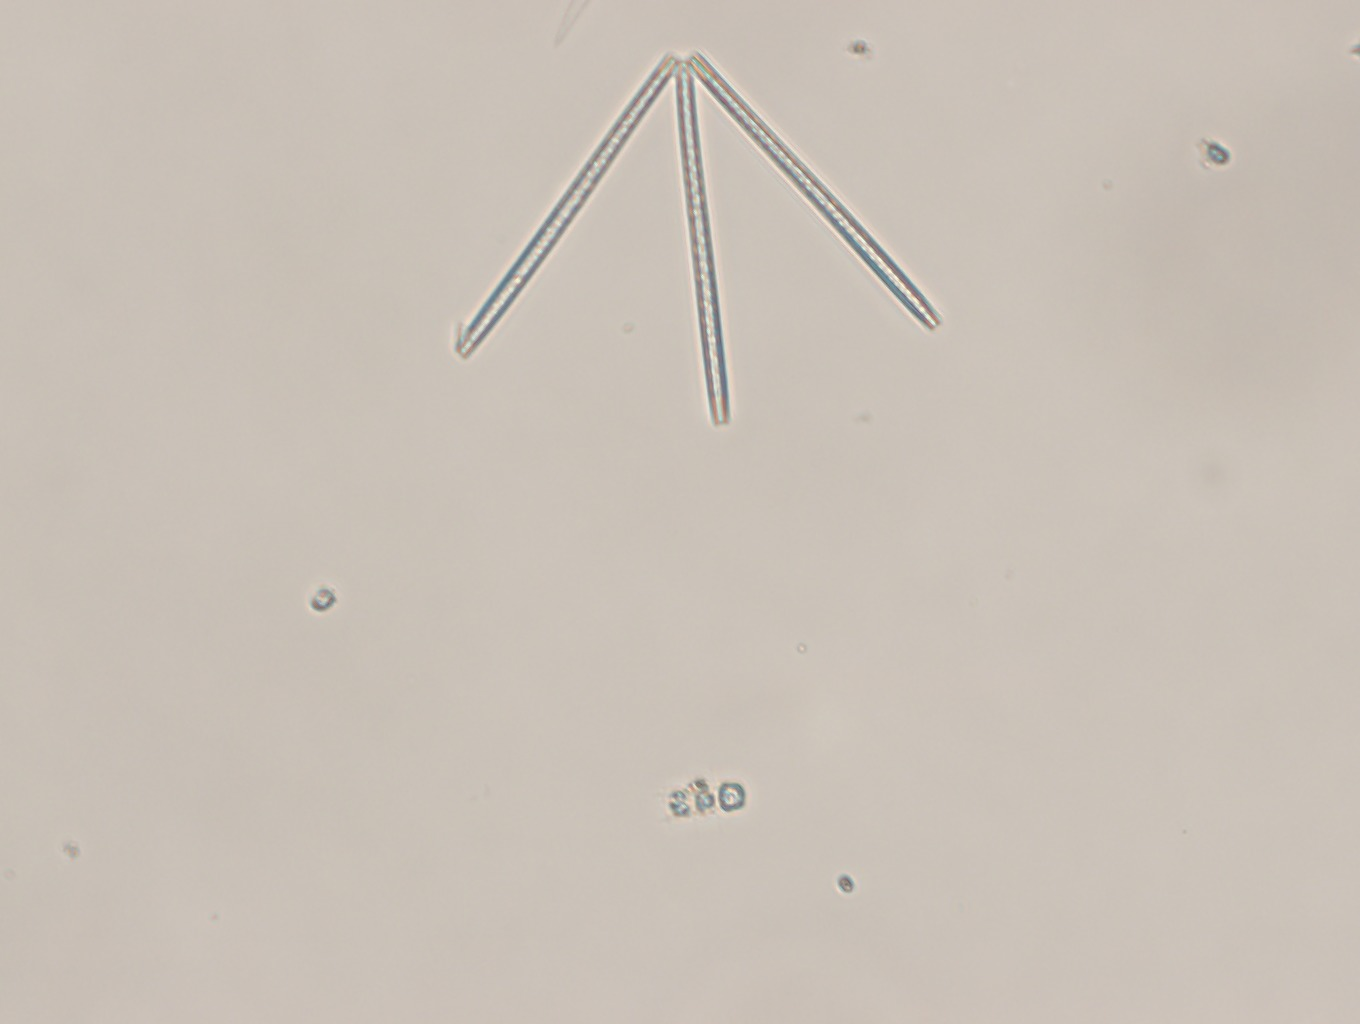thalassionema nitzschioides: (450, 40, 943, 427)
